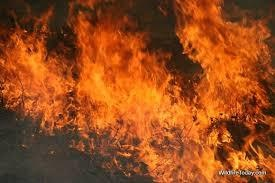fire: (16, 8, 275, 173)
